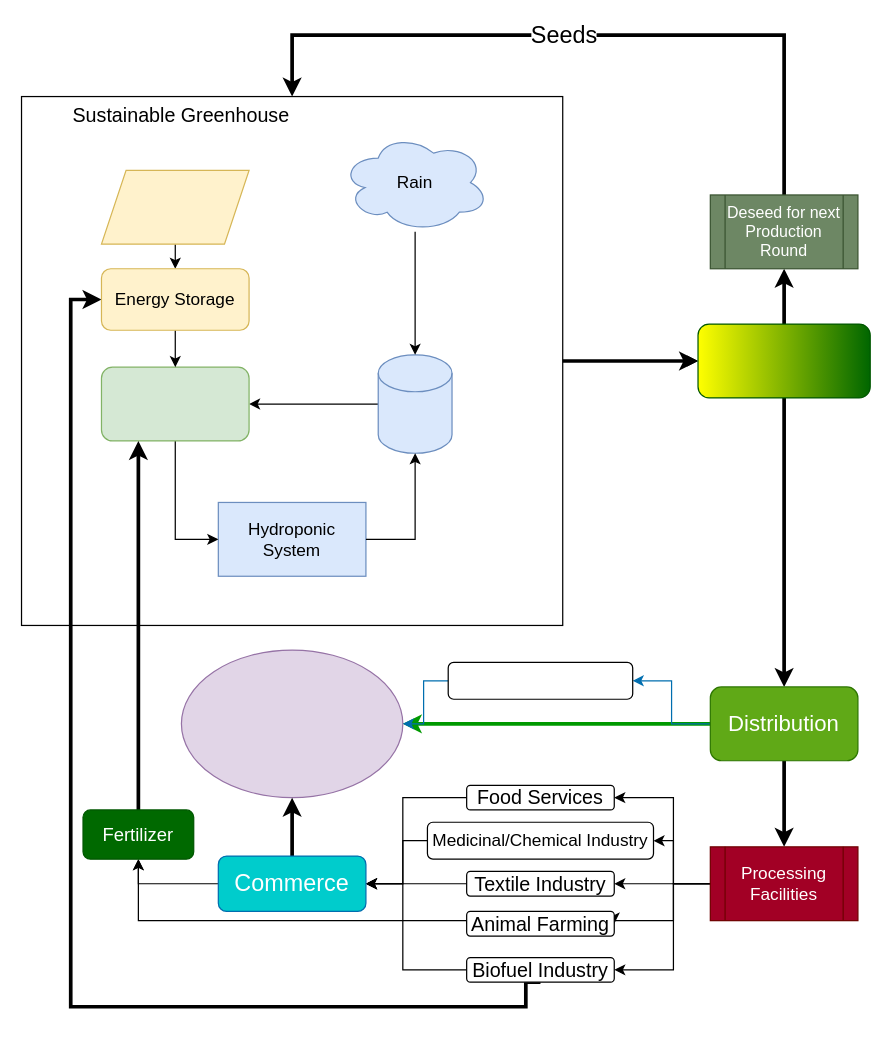
The diagram is 892 pixels wide and 1039 high, and some of its shapes have lost their labels. Here are the shapes that lost their labels. From the top down, the centre of each, then its label:
(174,206): Solar Panel
(783,360): Fruits / Vegetables
(174,403): Greenhouse
(414,403): Water Reservoir
(540,680): Culinary Education
(291,723): Consumers
